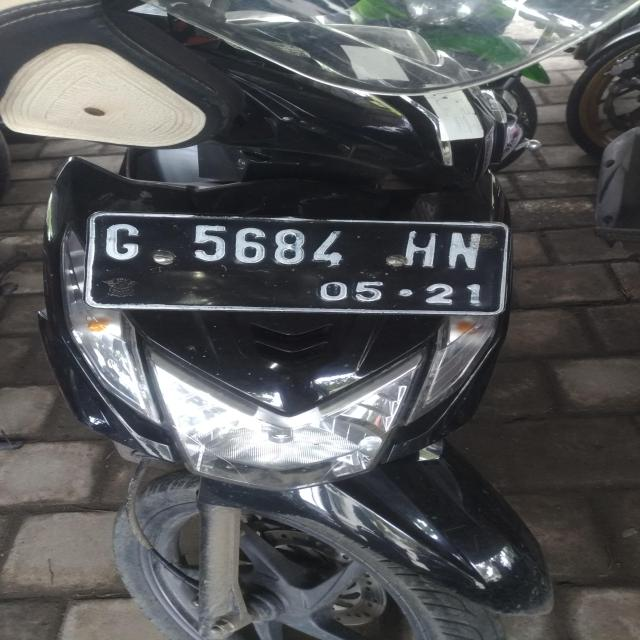License Plate: (87, 212, 509, 315)
